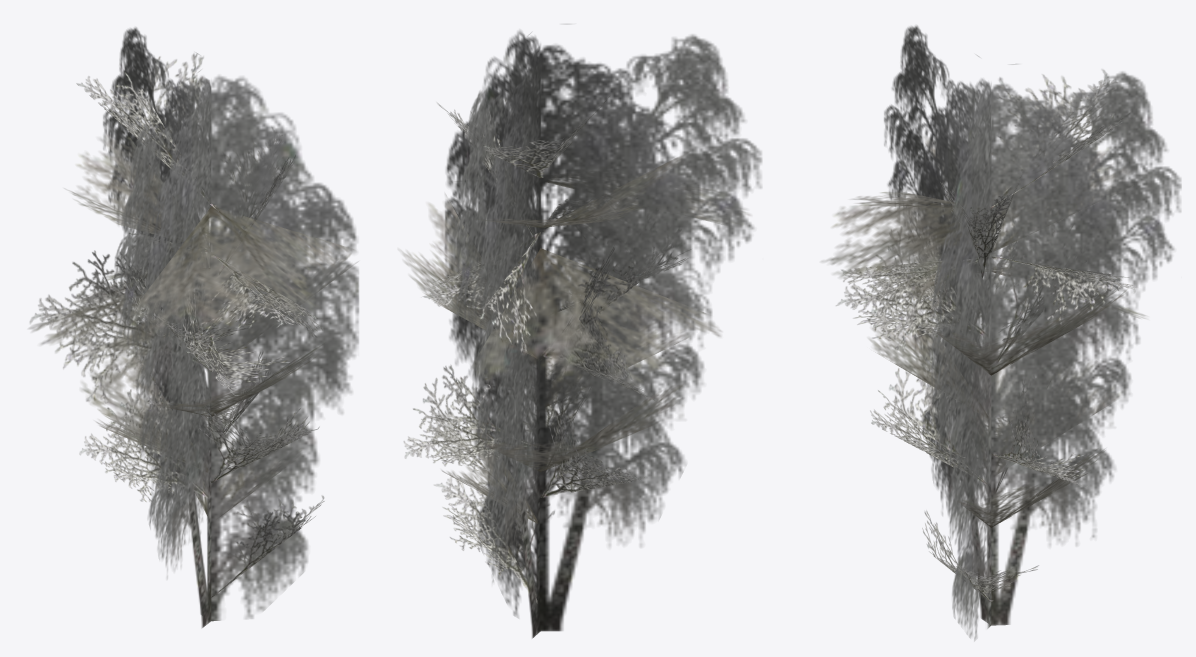
File: wtree_d.glb
3 views of the same model, side by side, from view 1: azimuth 30°, elevation 25°; view 2: azimuth 150°, elevation 25°; view 3: azimuth 270°, elevation 25° (orthographic). The views are drawn at different scales.
Parts seen in each view (by area): view 1: Winter_Trees_Planes, Winter_Trees_Branches.009; view 2: Winter_Trees_Planes, Winter_Trees_Branches.009; view 3: Winter_Trees_Planes, Winter_Trees_Branches.009.
Part boxes in pixels (x1=…): Winter_Trees_Planes: x1=103, y1=27, x2=359, y2=627; Winter_Trees_Branches.009: x1=28, y1=54, x2=357, y2=597; Winter_Trees_Planes: x1=445, y1=30, x2=762, y2=638; Winter_Trees_Branches.009: x1=398, y1=91, x2=750, y2=603; Winter_Trees_Planes: x1=884, y1=25, x2=1181, y2=641; Winter_Trees_Branches.009: x1=821, y1=69, x2=1145, y2=602.
Bounding box in the file's own units: 8.99 × 15.16 × 9.55.
2 materials, 2 textured.
